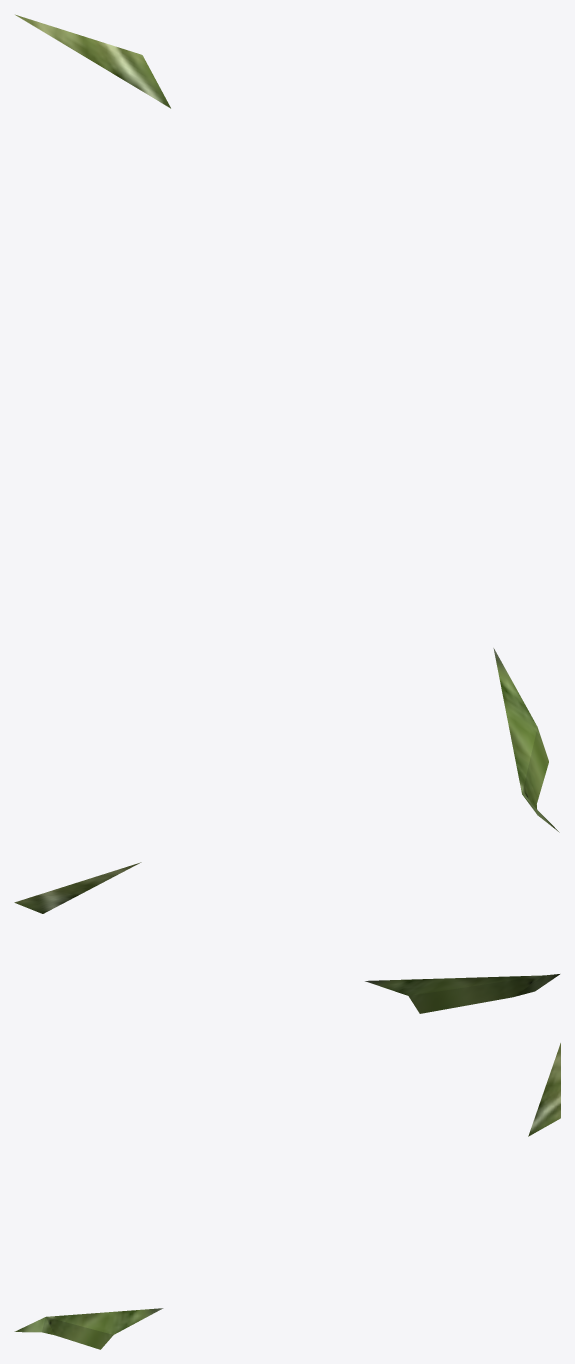
3 renders of one model, top to bottom at view 1: azimuth 30°, elevation 25°; view 2: azimuth 150°, elevation 25°; view 3: azimuth 270°, elevation 25°, orthographic. The views are drawn at different scales.
Bounding box in the file's own units: 0.3474 × 1.24 × 2.26.
Materials: 1 (1 with a texture image).
